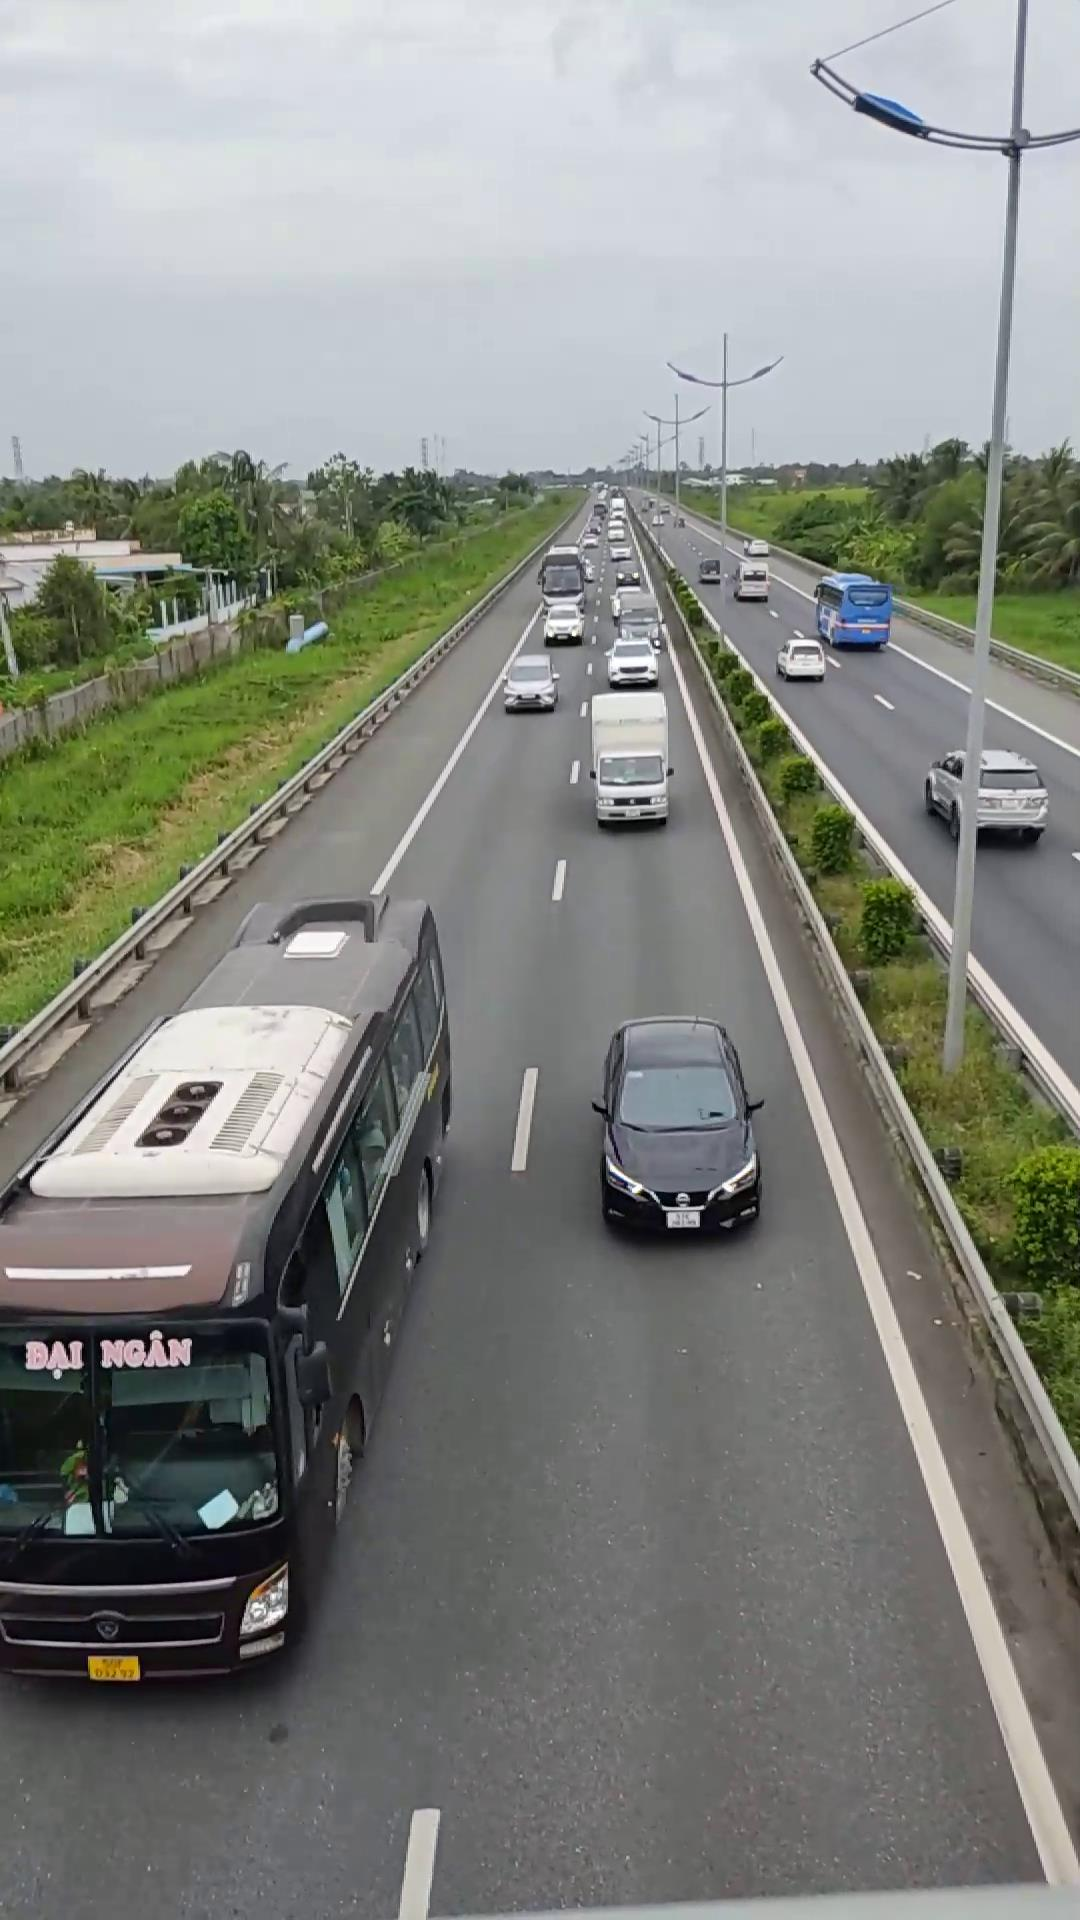bus: (0, 890, 456, 1683)
car: (589, 1015, 767, 1238), (923, 746, 1050, 843), (582, 744, 675, 827)
